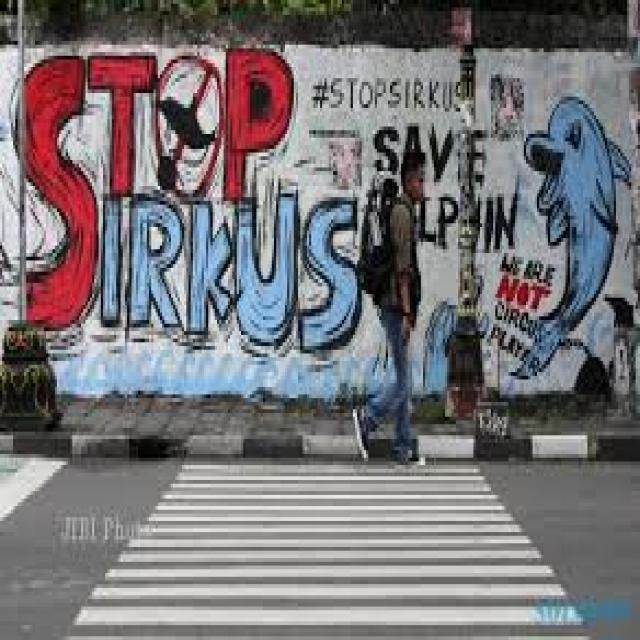-: (12, 49, 364, 354), (522, 93, 634, 370), (377, 120, 518, 252), (485, 255, 554, 373), (309, 78, 464, 110)
